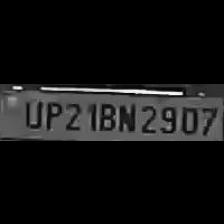0: (178, 102, 198, 134)
1: (83, 97, 97, 130)
2: (136, 100, 158, 132), (62, 97, 82, 130)
7: (197, 102, 217, 134)
9: (156, 102, 178, 132)
B: (94, 97, 116, 130)
N: (116, 98, 136, 132)
P: (42, 98, 62, 130)
U: (19, 96, 41, 128)
